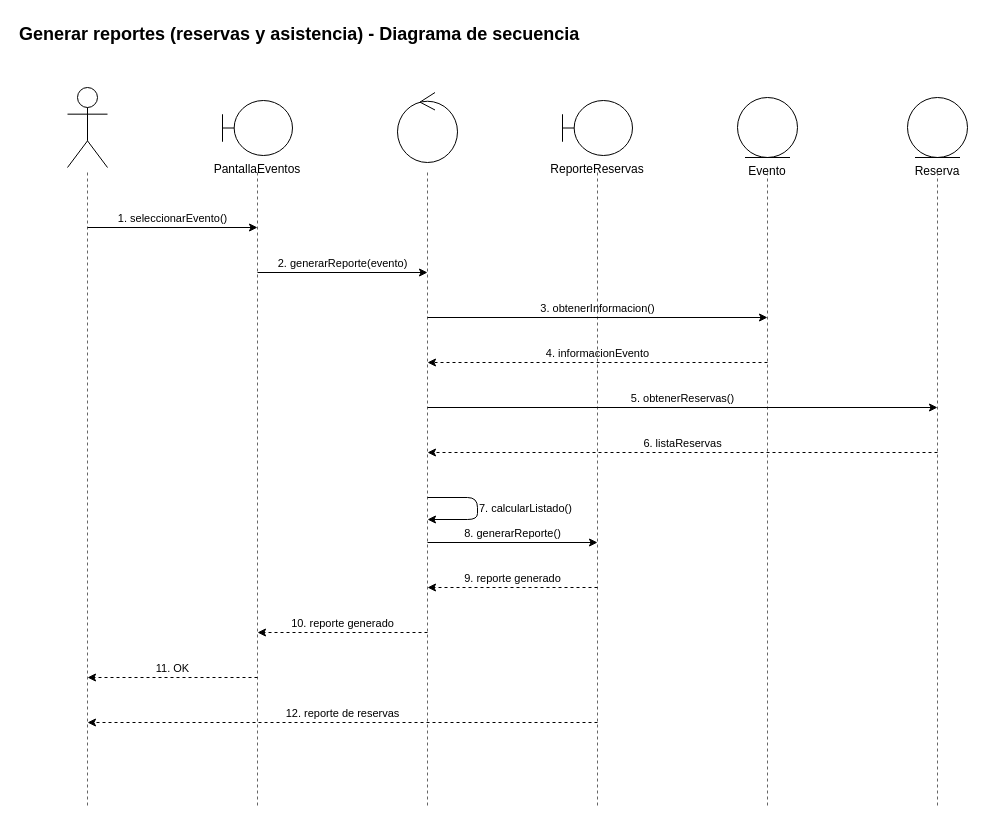
Some shapes in this 985 by 826 pixel diagram are drawn without their labels. Here are the shapes that lost their labels. From the top down, the centre of each, then its label:
At point 87,127: "Organizador".
At point 427,127: "GestiónReserva".
